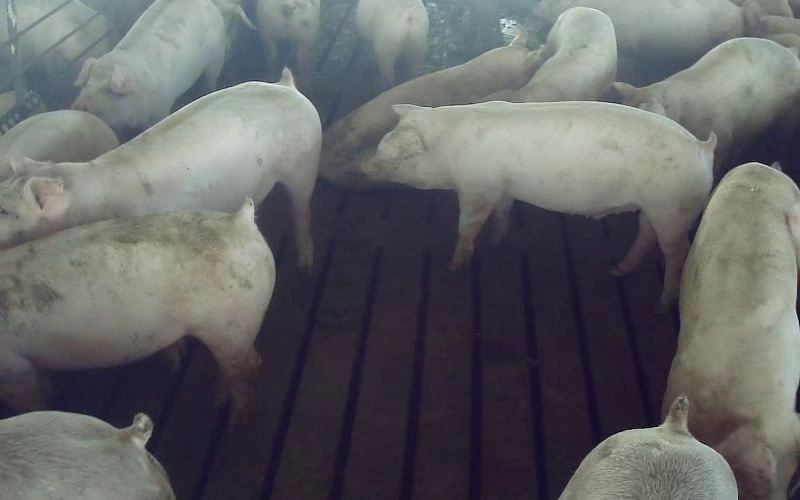pig: (362, 102, 713, 306), (0, 69, 321, 267), (0, 199, 274, 416), (664, 162, 799, 499), (320, 32, 543, 189), (615, 38, 799, 170), (485, 7, 616, 101)
